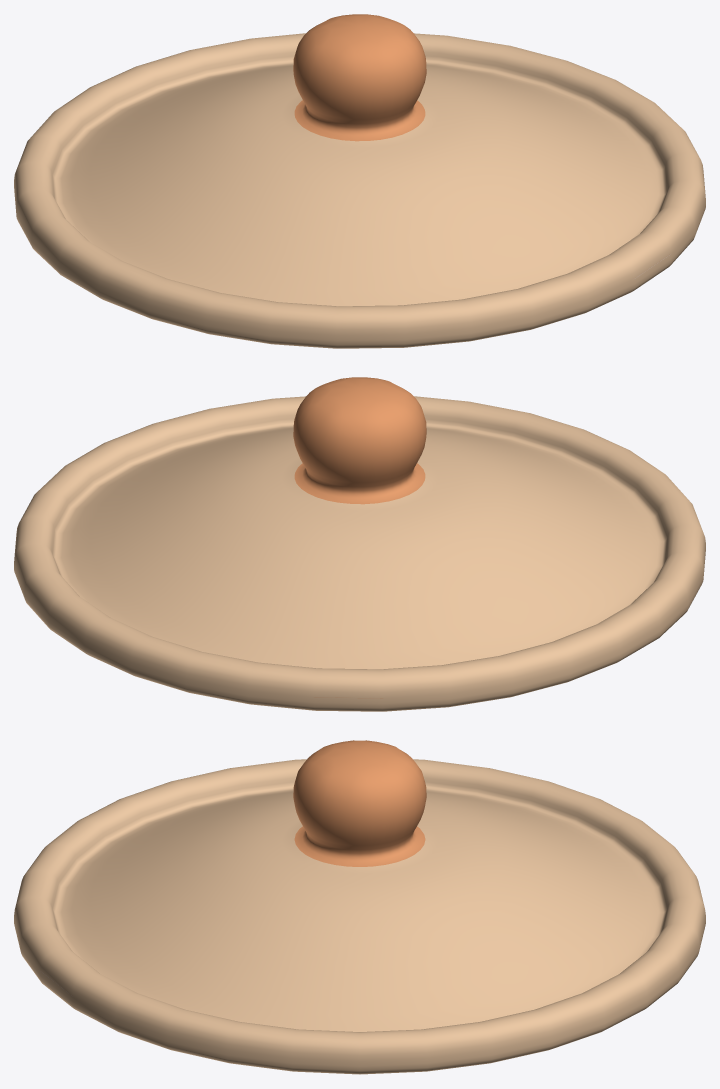
The model's file is SM_PotCover.fbx.
The picture shows the model from 3 angles, top to bottom: view 1: azimuth 30°, elevation 25°; view 2: azimuth 150°, elevation 25°; view 3: azimuth 270°, elevation 25°; orthographic projection.
Parts seen in each view (by area): view 1: SM_PotCover; view 2: SM_PotCover; view 3: SM_PotCover.
Part boxes in pixels (x1,y1,x2,y2): SM_PotCover: (14,14,705,348); SM_PotCover: (14,377,705,711); SM_PotCover: (14,740,705,1074).
Size of the model in its own units: 79.23 by 23.05 by 79.23.
